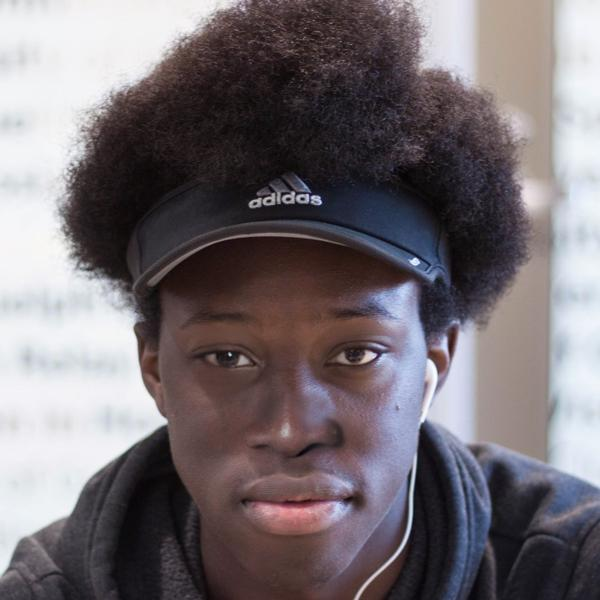Eyes: (319, 330, 393, 381), (188, 334, 264, 381)
